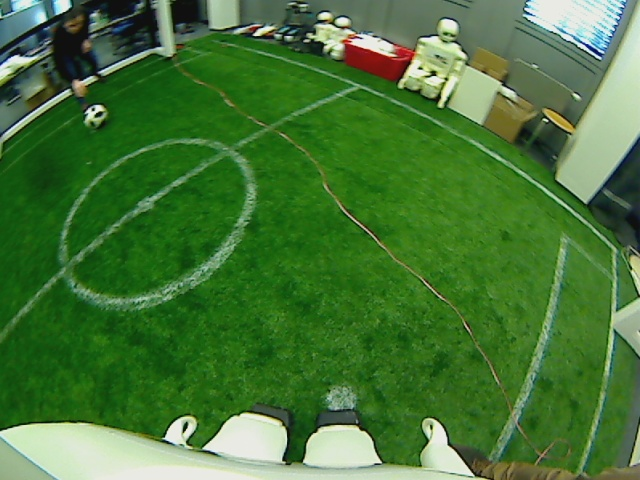ball: (82, 103, 108, 130)
